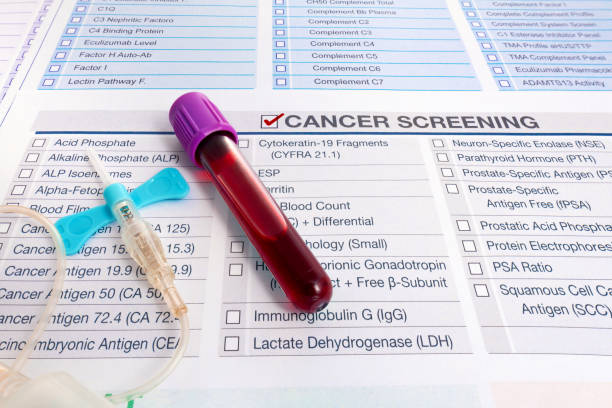blood: (194, 136, 333, 313)
